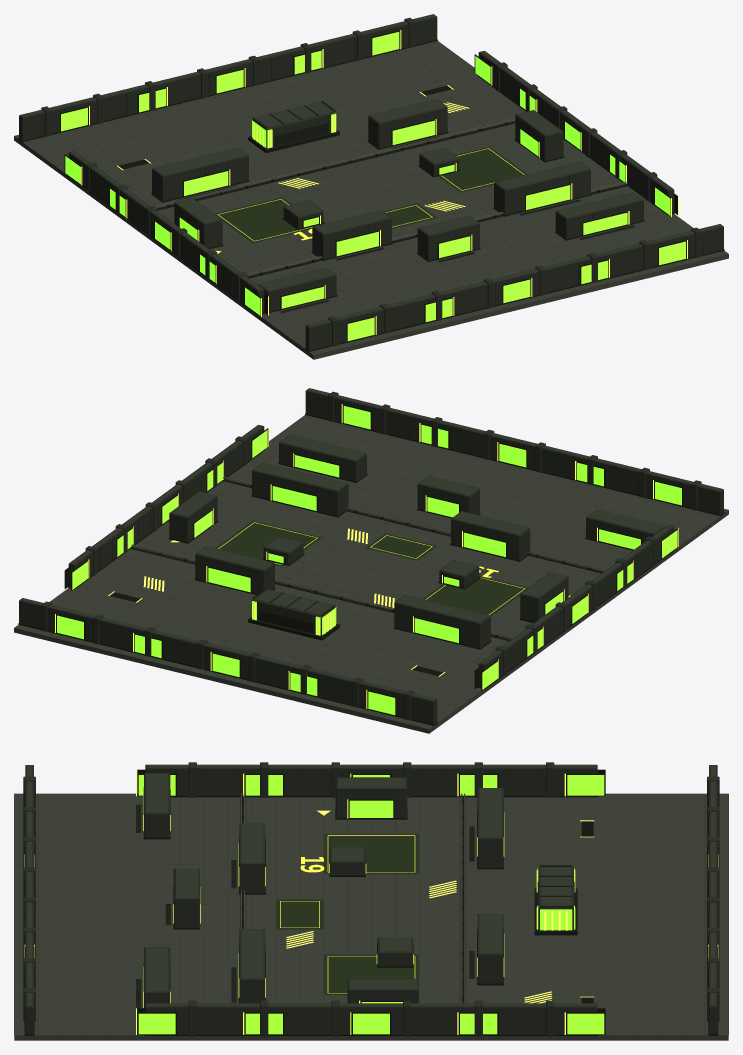
Rendered from arena_toxic.glb.
3 views of the same model, one above another, from view 1: azimuth 30°, elevation 25°; view 2: azimuth 150°, elevation 25°; view 3: azimuth 270°, elevation 25° (orthographic). The views are drawn at different scales.
Parts seen in each view (by area): view 1: ArenaFloor, ArenaProps; view 2: ArenaFloor, ArenaProps; view 3: ArenaFloor, ArenaProps.
Boxes of the visible parts, <box> form: ArenaFloor: <box>14,41,728,359</box>; ArenaProps: <box>18,14,724,351</box>; ArenaFloor: <box>14,415,728,733</box>; ArenaProps: <box>18,388,724,725</box>; ArenaFloor: <box>14,793,728,1040</box>; ArenaProps: <box>23,762,719,1036</box>.
Bounding box in the file's own units: 48.45 × 3.41 × 60.03.
